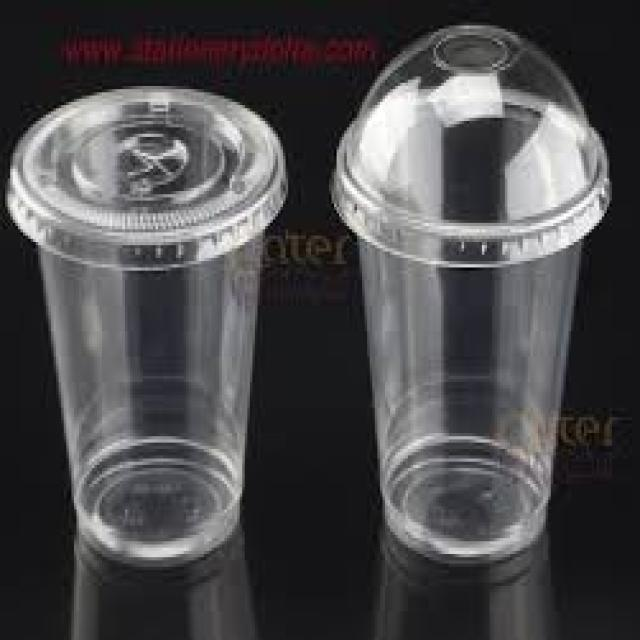cup: (320, 91, 620, 588), (12, 70, 292, 581)
